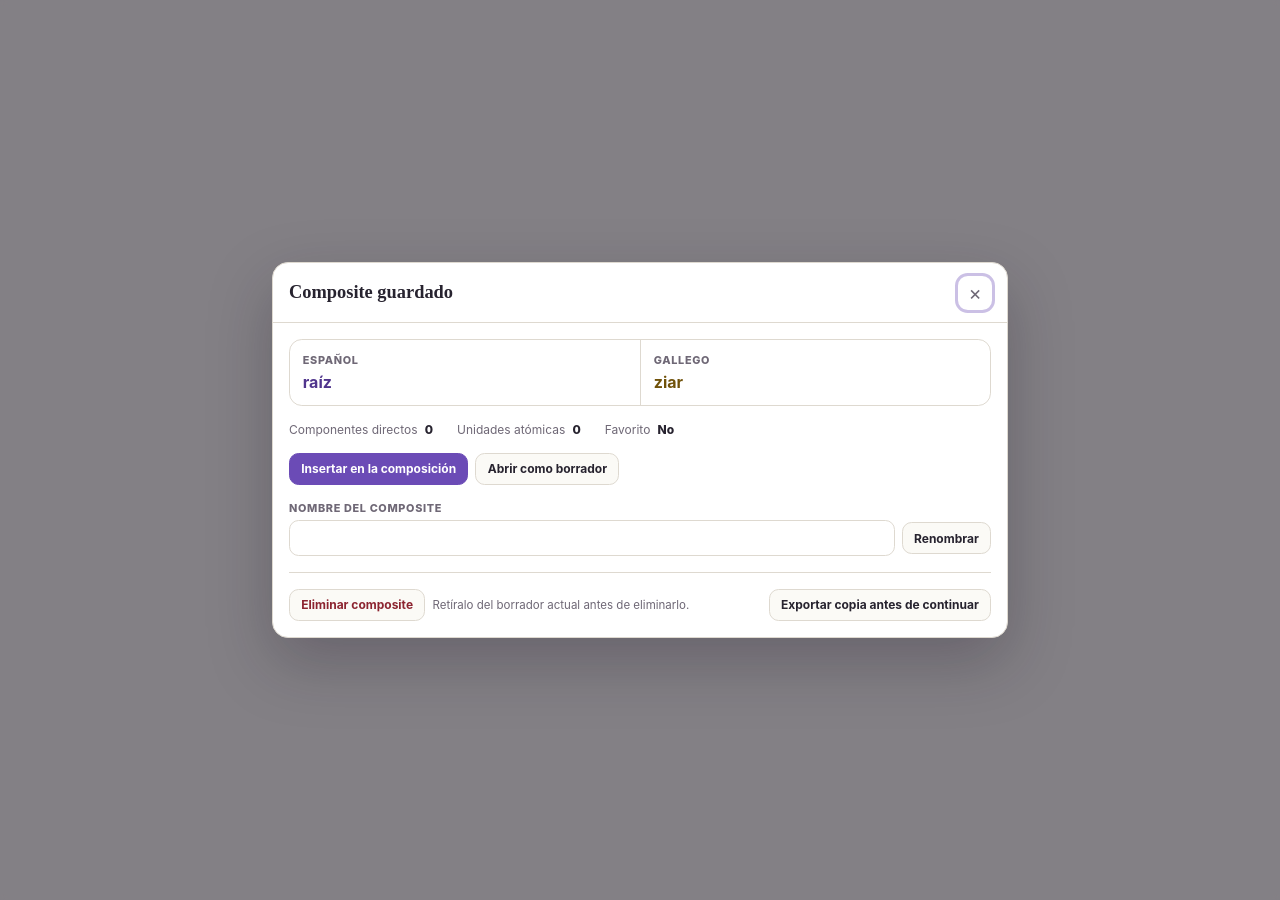
Scenario: gestión visual de composites › explica el bloqueo cuando un borrador usa un composite afectado
The image size is (1280, 900).
Click the button "Eliminar composite".
click(357, 605)  # box [289,589,425,621]
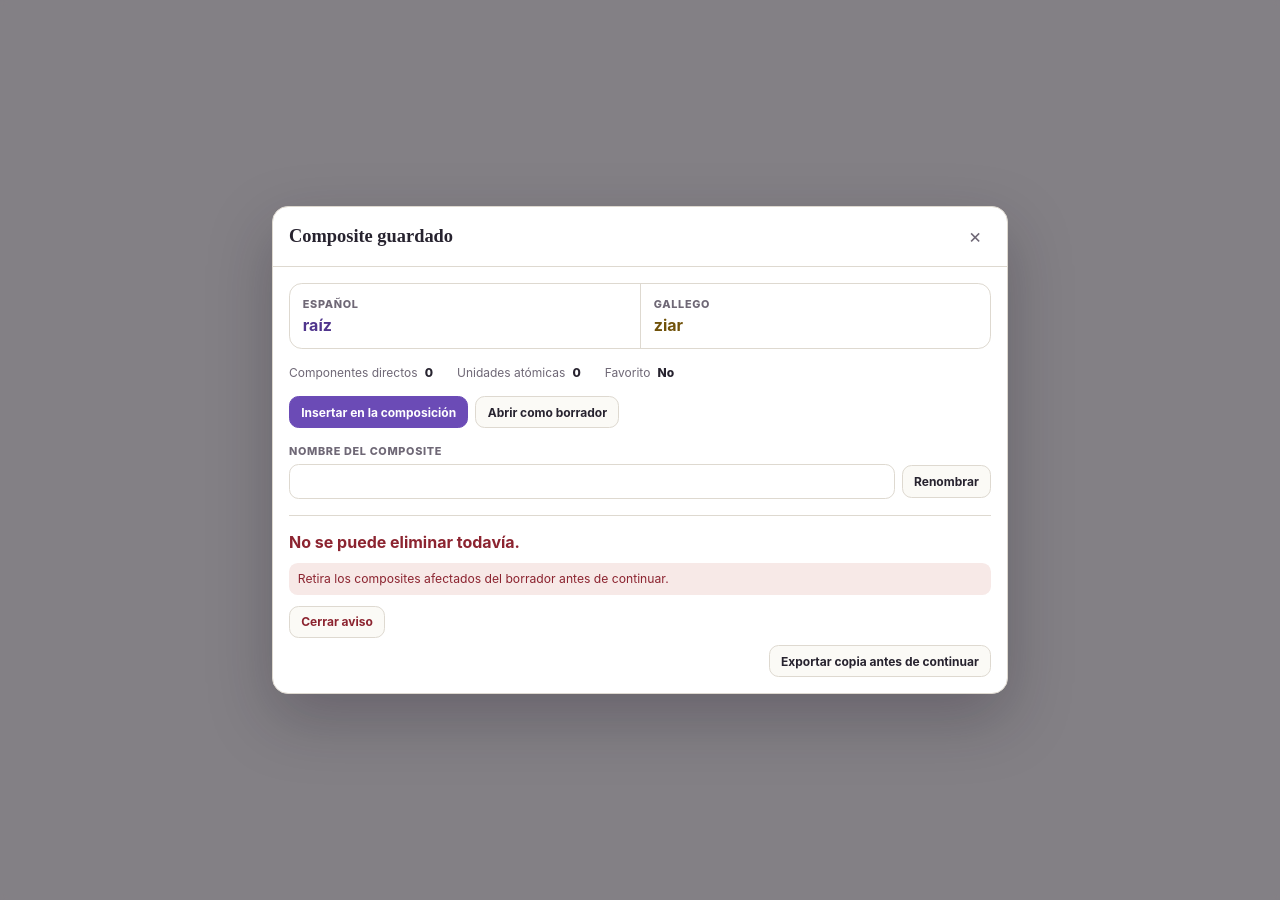
Expected: the text "Retira los composites afectados del borrador antes de continuar." is shown, [289,563,991,595]
Expected: the button "Eliminar composite" is gone
